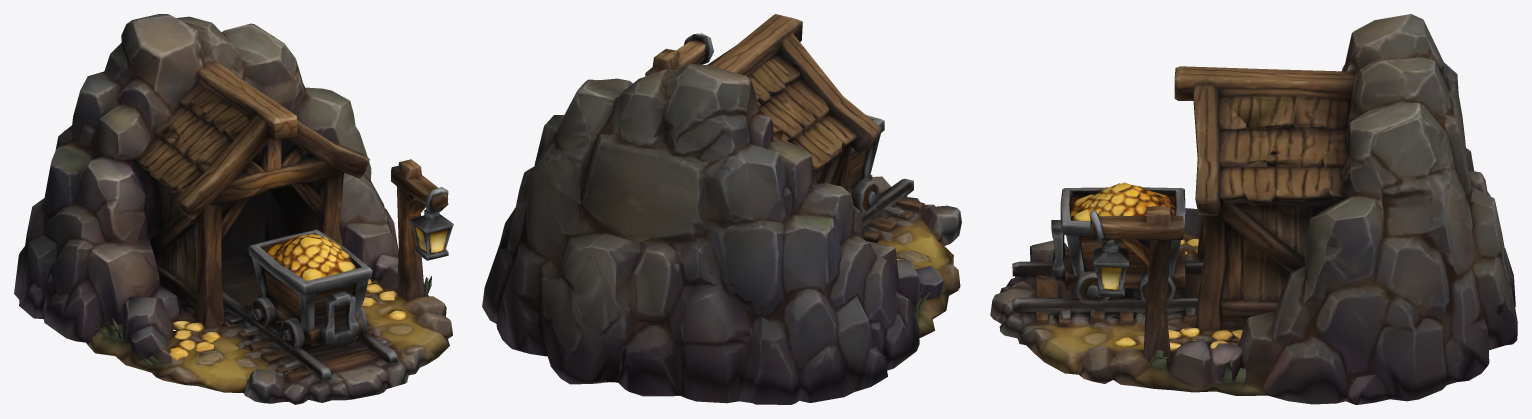
Rendered from gold.glb.
3 views of the same model, side by side, from view 1: azimuth 30°, elevation 25°; view 2: azimuth 150°, elevation 25°; view 3: azimuth 270°, elevation 25° (orthographic). The views are drawn at different scales.
Parts seen in each view (by area): view 1: geometry_0; view 2: geometry_0; view 3: geometry_0.
Boxes of the visible parts, bbox=[...] form: geometry_0: bbox=[14, 14, 453, 404]; geometry_0: bbox=[482, 14, 961, 404]; geometry_0: bbox=[990, 14, 1517, 404].
Size of the model in its own units: 0.8244 by 0.5911 by 1.
Materials: 1 (1 with a texture image).
